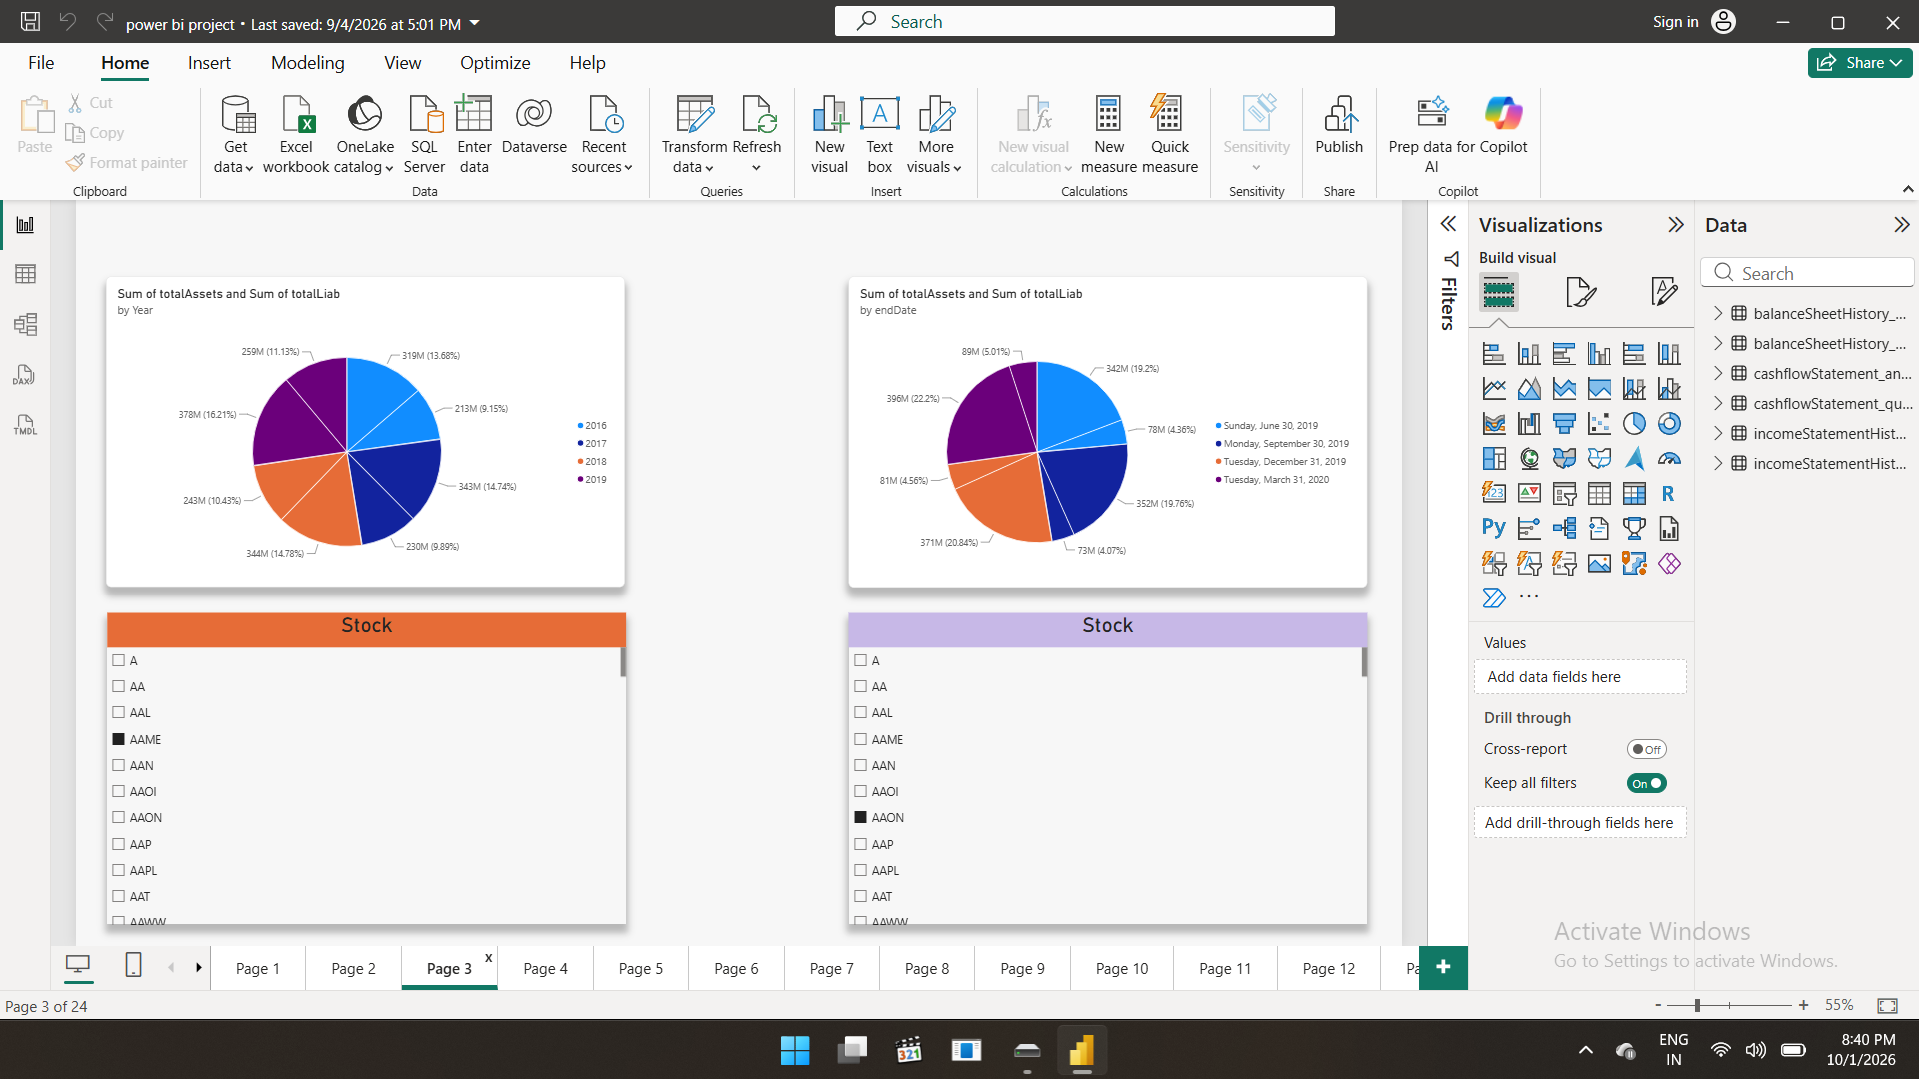

What the dashboard file says about the page in this screenshot:
{"tool":"powerbi","page":{"name":"Page 3","canvas":[1920,1080],"ordinal":2},"visuals":[{"type":"pieChart","fields":{"Y":["Sum(balanceSheetHistory_annually.totalAssets)","Sum(balanceSheetHistory_annually.totalLiab)"],"Category":["balanceSheetHistory_annually.endDate.Variation.Date Hierarchy.Year","balanceSheetHistory_annually.endDate.Variation.Date Hierarchy.Quarter","balanceSheetHistory_annually.endDate.Variation.Date Hierarchy.Month","balanceSheetHistory_annually.endDate.Variation.Date Hierarchy.Day"]},"box":[43.4,110.4,751,450.6],"z":0},{"type":"pieChart","fields":{"Y":["Sum(balanceSheetHistory_quarterly.totalAssets)","Sum(balanceSheetHistory_quarterly.totalLiab)"],"Category":["balanceSheetHistory_quarterly.endDate.Variation.Date Hierarchy.Year"]},"box":[1118.4,110.4,751,451],"z":1000},{"type":"slicer","title":"Stock","fields":{"Values":["balanceSheetHistory_annually.stock"]},"box":[45.2,597.2,751,451],"z":2000},{"type":"slicer","title":"Stock","fields":{"Values":["balanceSheetHistory_quarterly.stock"]},"box":[1118.4,597.2,751,451],"z":3000}]}

Visuals, with their boxes on the page's 1920x1080 design canvas (x1, y1, x2, y2). These are canvas units, not pixel positions in the 1919x1079 screenshot, which may show the page scaled, cropped or inside an application window:
pieChart - Sum(balanceSheetHistory_annually.totalAssets) x Sum(balanceSheetHistory_annually.totalLiab): 43 110 794 561
pieChart - Sum(balanceSheetHistory_quarterly.totalAssets) x Sum(balanceSheetHistory_quarterly.totalLiab): 1118 110 1869 561
"Stock" slicer: 45 597 796 1048
"Stock" slicer: 1118 597 1869 1048
